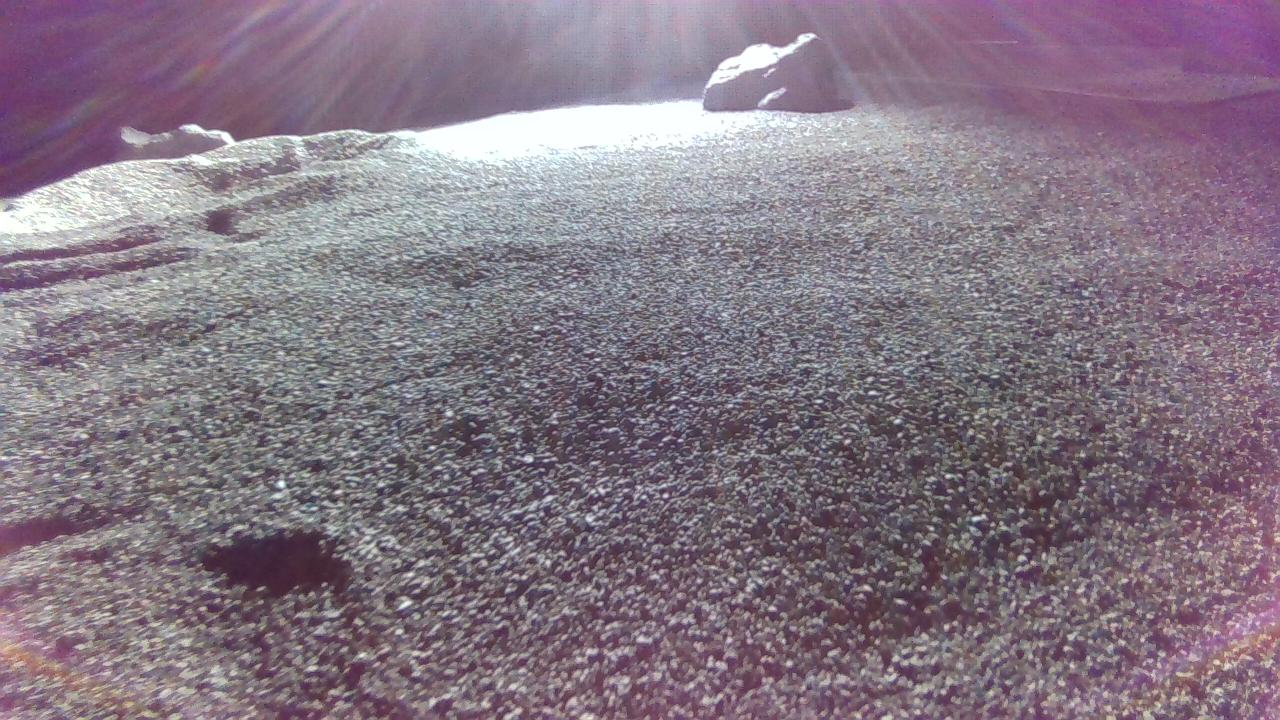rock: (704, 31, 842, 111), (113, 123, 234, 160)
